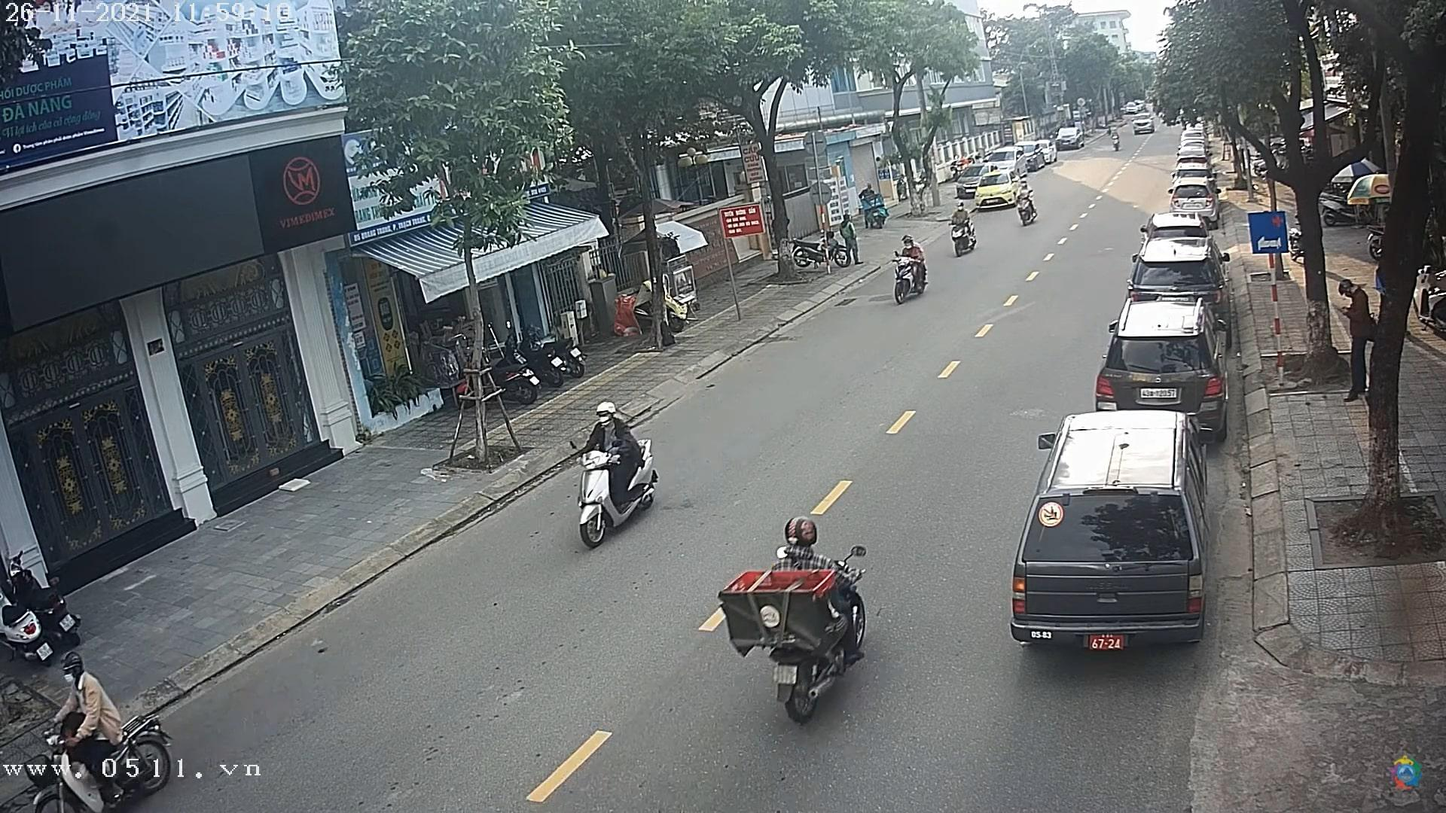car: (1014, 408, 1208, 648), (1096, 297, 1228, 424), (1129, 236, 1224, 302), (1057, 125, 1087, 149)
motorbike: (761, 586, 872, 732), (571, 443, 662, 553), (895, 260, 929, 304), (950, 227, 980, 258)
